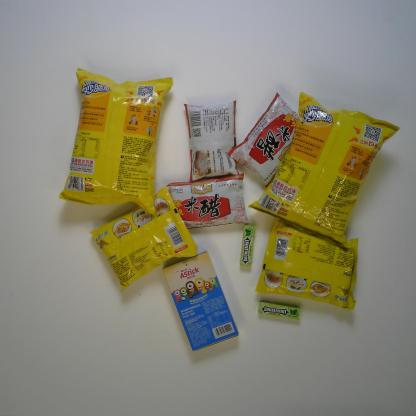Dessert: (162, 251, 240, 352)
Gum: (258, 301, 302, 321), (240, 224, 255, 268)
Instant Noodles: (90, 185, 198, 293), (254, 218, 360, 312)
Puffed Food: (248, 92, 402, 251), (58, 65, 174, 215)
Seasoner: (226, 92, 307, 189), (166, 172, 251, 230), (183, 99, 240, 183)
